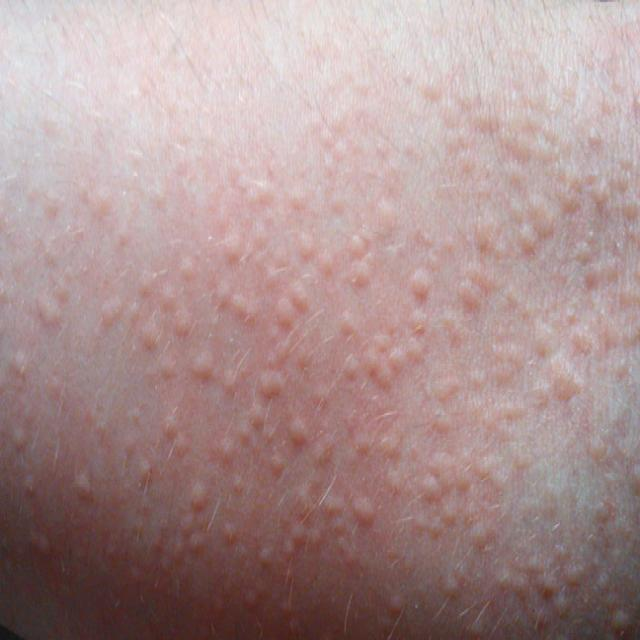hives: (3, 11, 640, 633)
